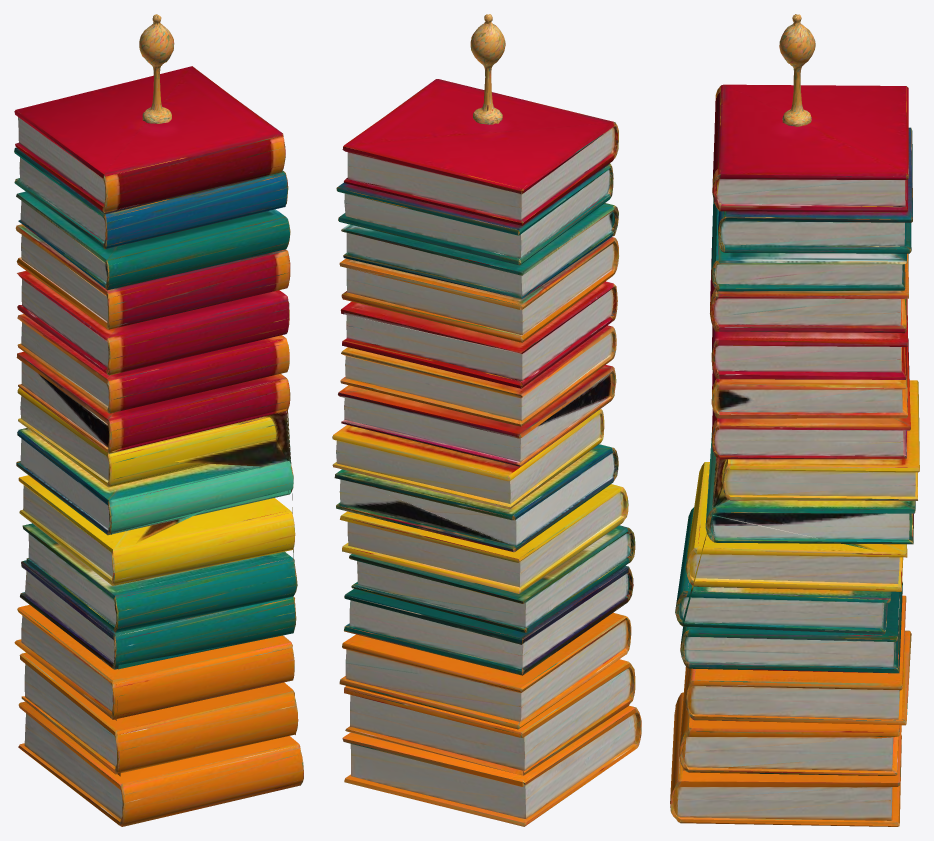
Rendered from lmBookTower.glb.
The picture shows the model from 3 angles, left to right: view 1: azimuth 30°, elevation 25°; view 2: azimuth 150°, elevation 25°; view 3: azimuth 270°, elevation 25°; orthographic projection. The views are drawn at different scales.
Parts seen in each view (by area): view 1: Mesh_0; view 2: Mesh_0; view 3: Mesh_0.
Part boxes in pixels (x1,y1,x2,y2): Mesh_0: [14, 14, 303, 826]; Mesh_0: [332, 14, 641, 826]; Mesh_0: [670, 14, 919, 826].
Bounding box in the file's own units: 17.96 × 68 × 20.1.
1 material, 1 textured.
